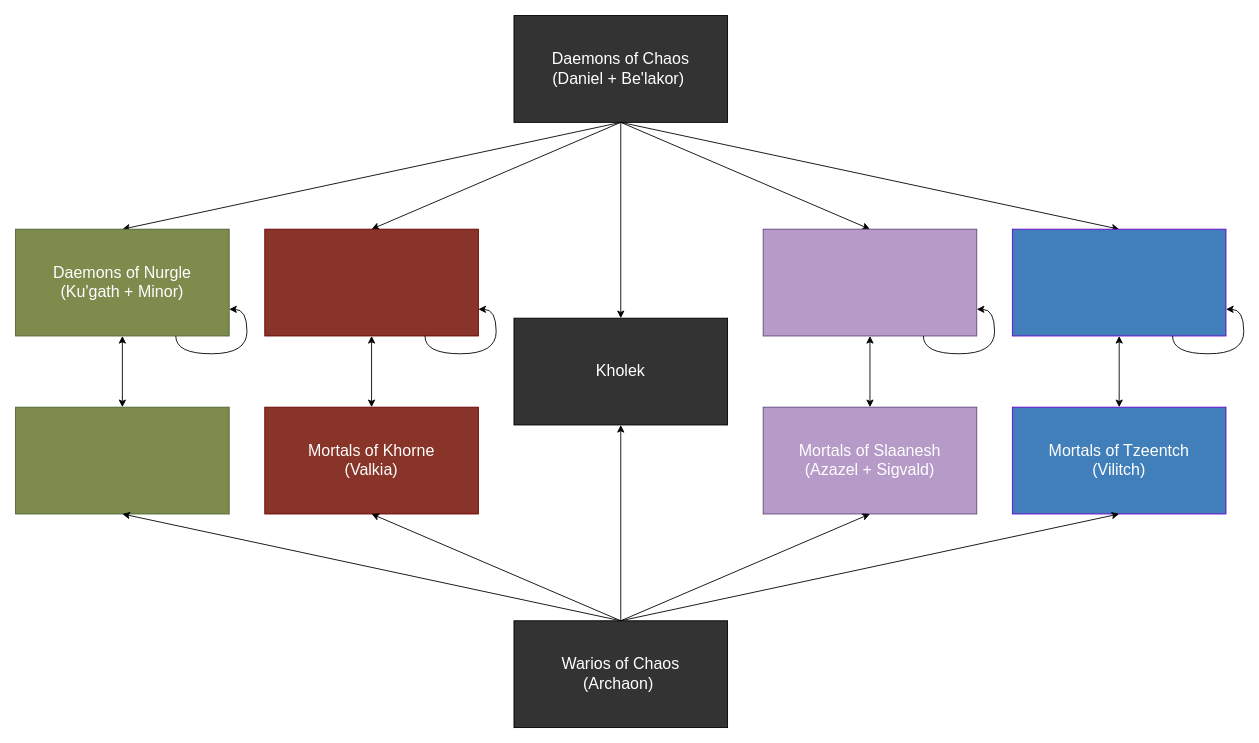
Some shapes in this 1259 by 743 pixel diagram are drawn without their labels. The centre of each missing label's shape, as x and y in pixels:
"Daemons of Khorne (Skarbrand + Minor)" belongs at pixel 371 282.
"Daemons of Slaanesh (N'Kari + Minor )" belongs at pixel 869 282.
"Daemons of Tzeentch (Kairos + Minor )" belongs at pixel 1118 282.
"Mortals of Nurgle (Festus )" belongs at pixel 122 460.
